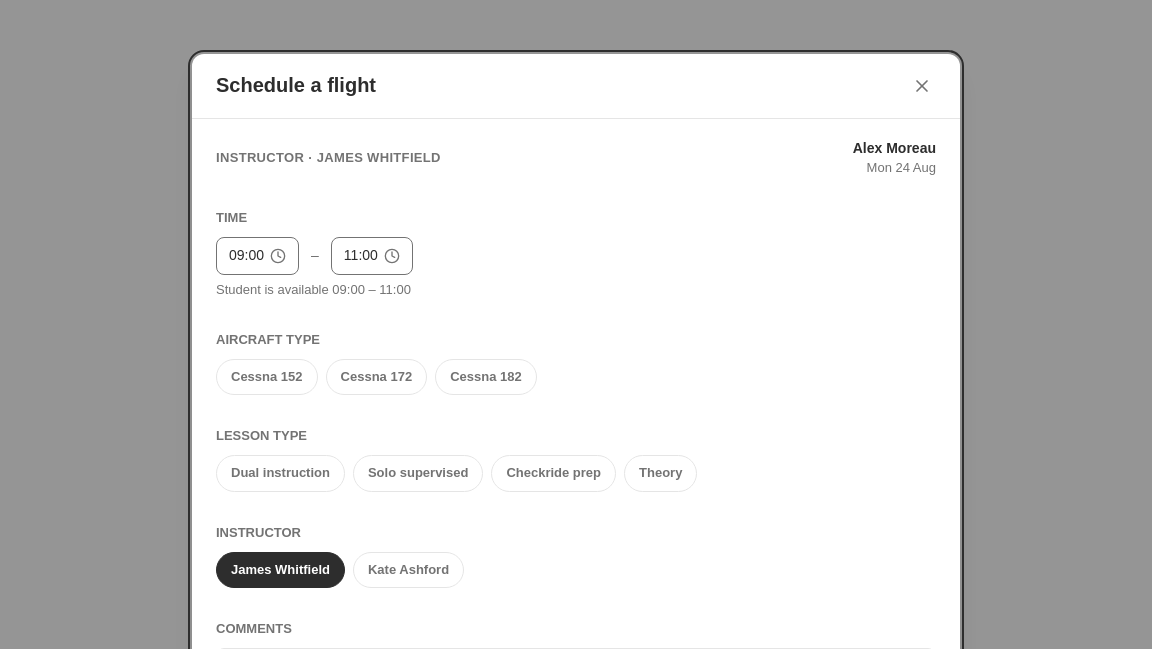
Test: ScheduleFlightModal › keeps Confirm disabled for a Theory lesson until the topic is filled in
Click the button "Theory": coordinates (661, 473) [624,455,697,492]
(page scrolled)
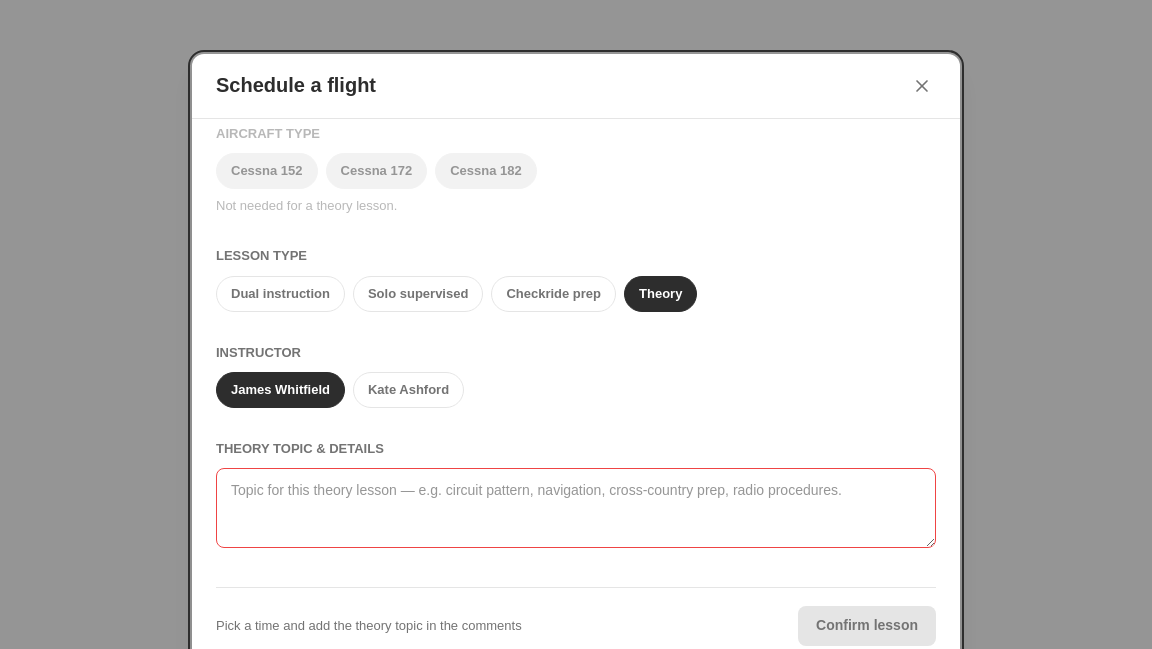
Result: the button "Confirm lesson" is disabled at [798,606,936,646]
Replace the text in the text box labelled "Theory topic & details" with "Radio procedures": coordinates (576, 508) [216,468,936,548]
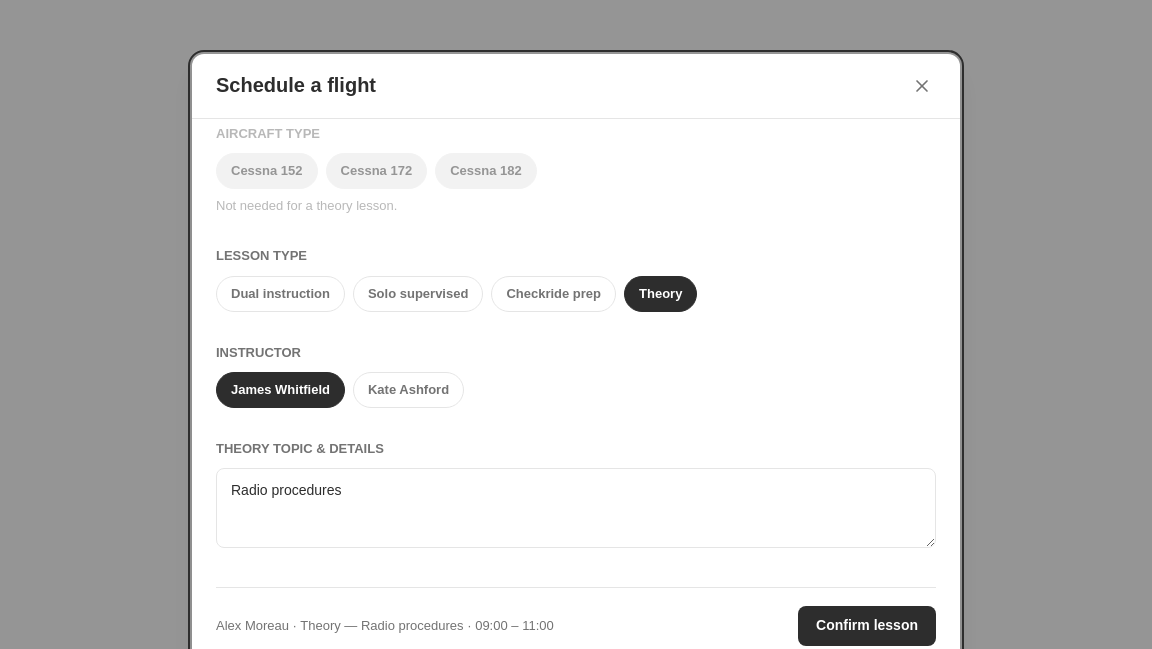
Result: the button "Confirm lesson" is enabled at [798,606,936,646]
